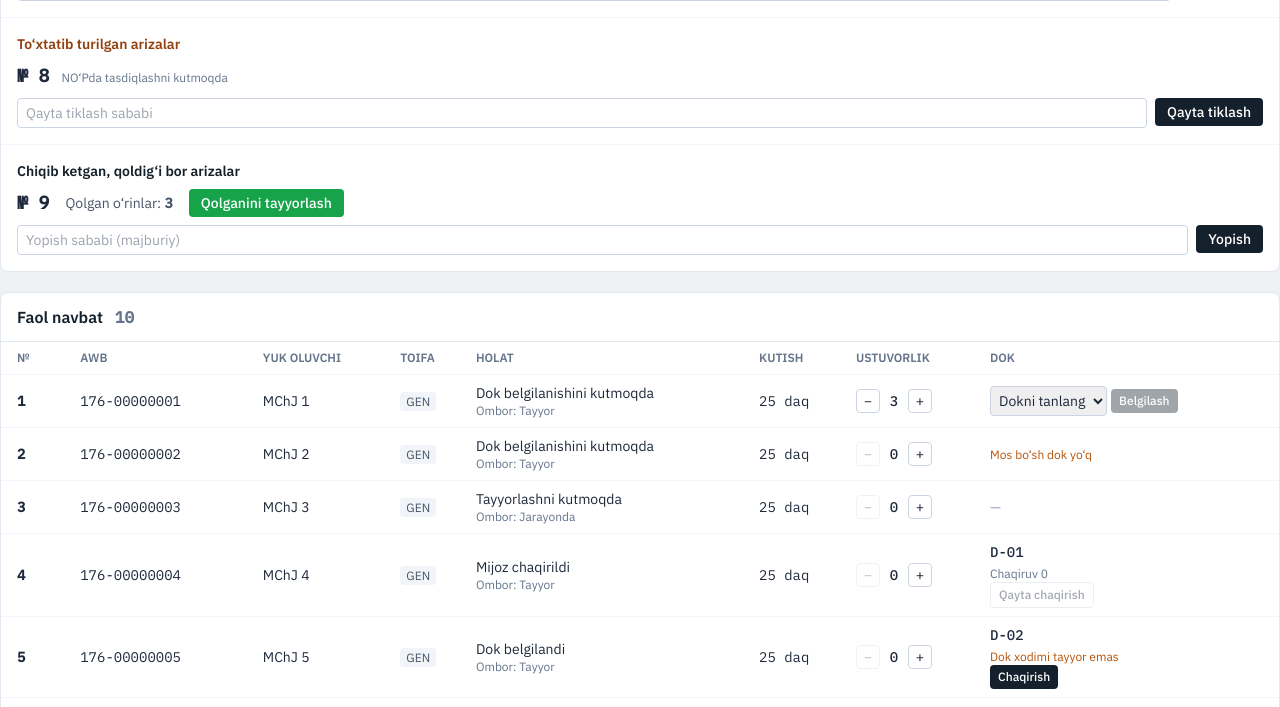
Test: DispatcherPage › shows the server's reason when a dock cannot be assigned
The width and height of the screenshot is (1280, 707).
(page scrolled)
Select "D-02" in the dropdown named "Dokni tanlang № 1". click: (1049, 400)
box: 990,386 -> 1107,416
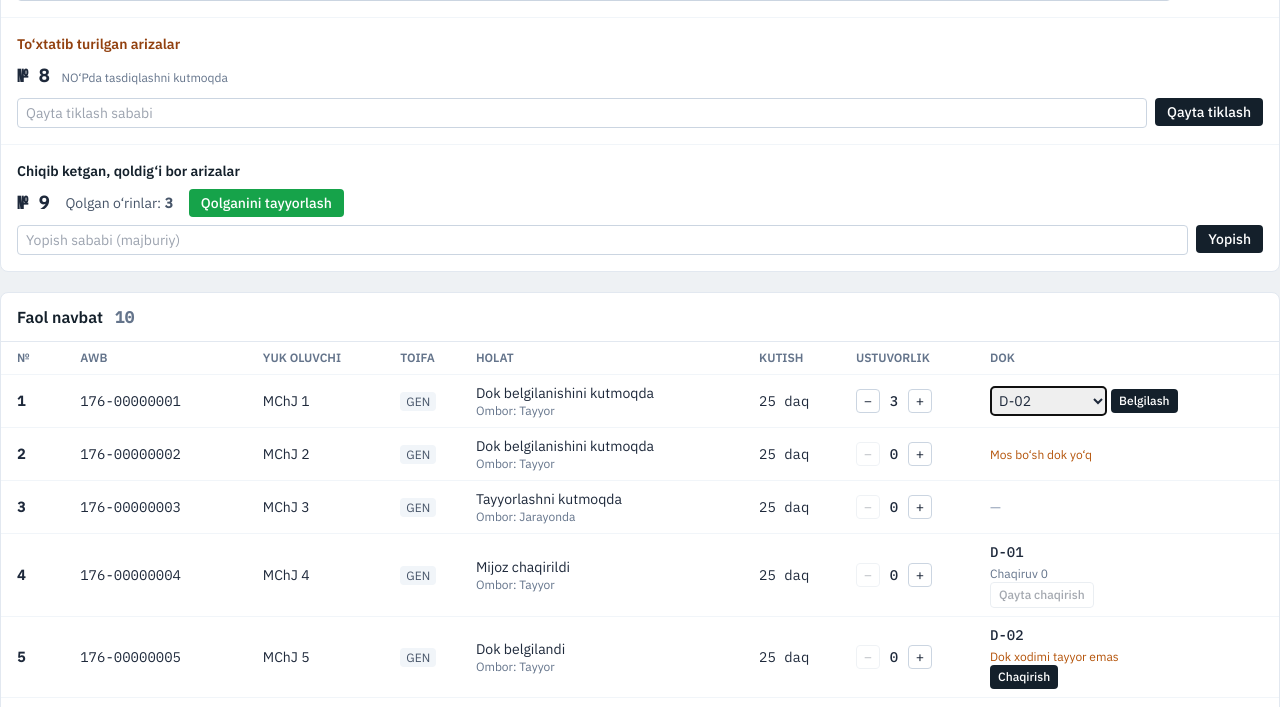
Click the button "Belgilash". click: (1144, 400)
box: 1111,388 -> 1178,412
(page scrolled)
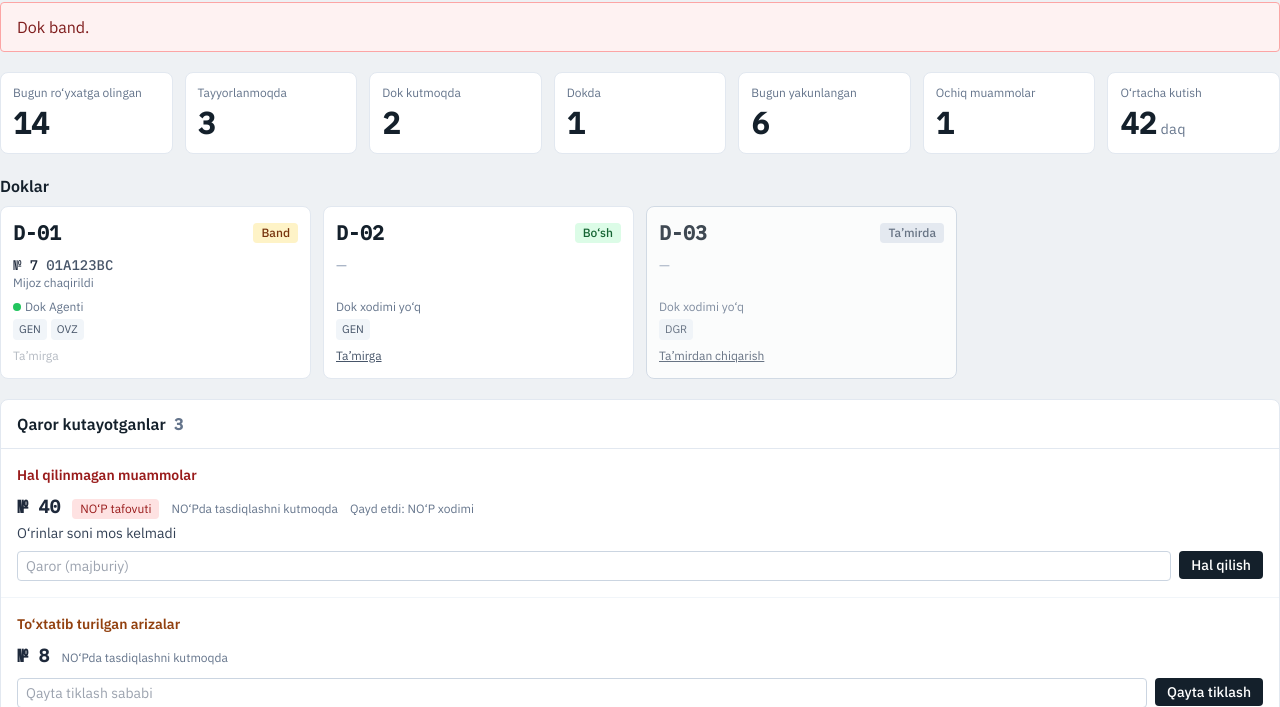
Expected: the message reads "Dok band.", 17,17 -> 90,37
